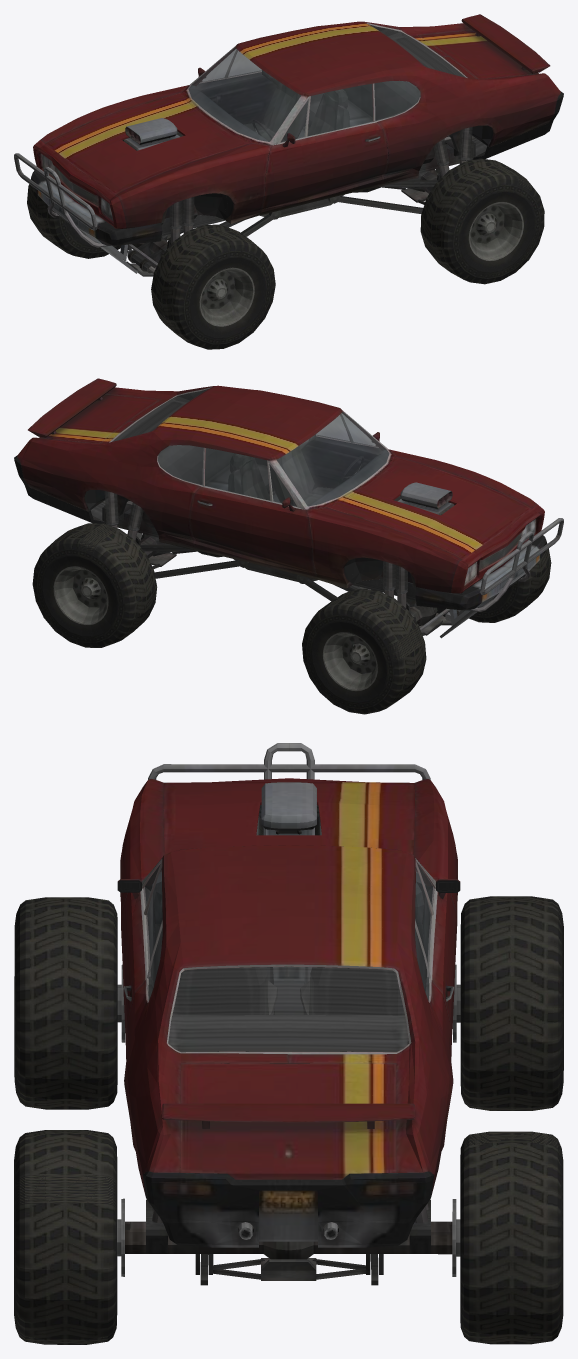
The picture shows the model from 3 angles, top to bottom: view 1: azimuth 30°, elevation 25°; view 2: azimuth 150°, elevation 25°; view 3: azimuth 270°, elevation 25°; orthographic projection. The views are drawn at different scales.
Size of the model in its own units: 2.5 by 1.01 by 1.4.
6 materials, 6 textured.
